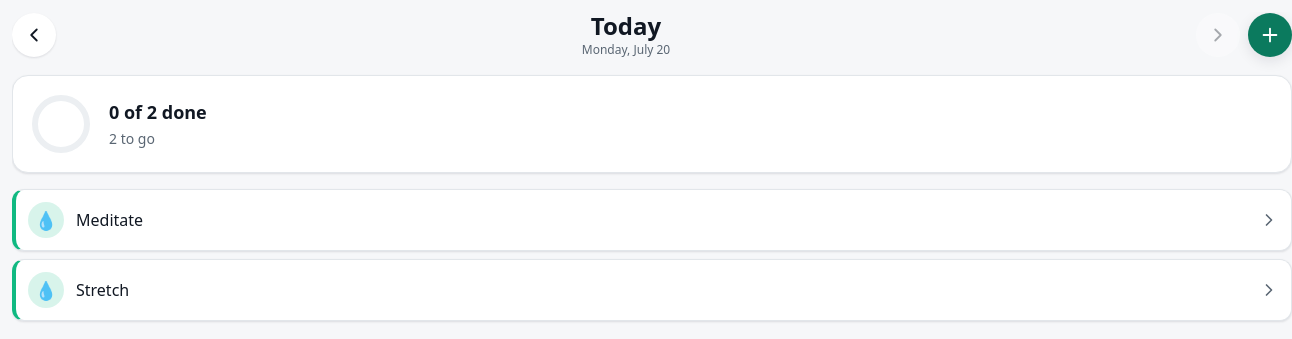
Scenario: daily progress › summarises the day above the list and updates as habits are completed
The image size is (1292, 339).
Expected: the text "0 of 2 done" is shown, [109,99,207,126]
Click the button "💧 Meditate".
click(46, 220)  # box [16,190,1243,250]
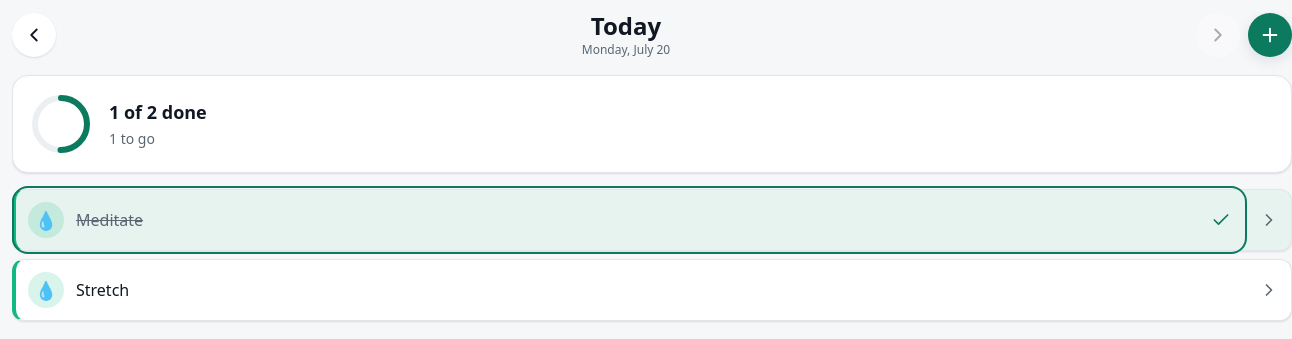
Now the text "1 of 2 done" is shown, box [109,99,207,126]
